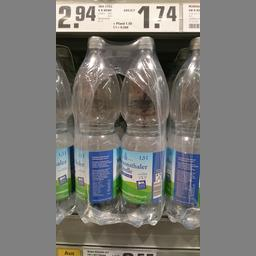water: (119, 36, 167, 228), (72, 34, 120, 222), (166, 34, 198, 228)
